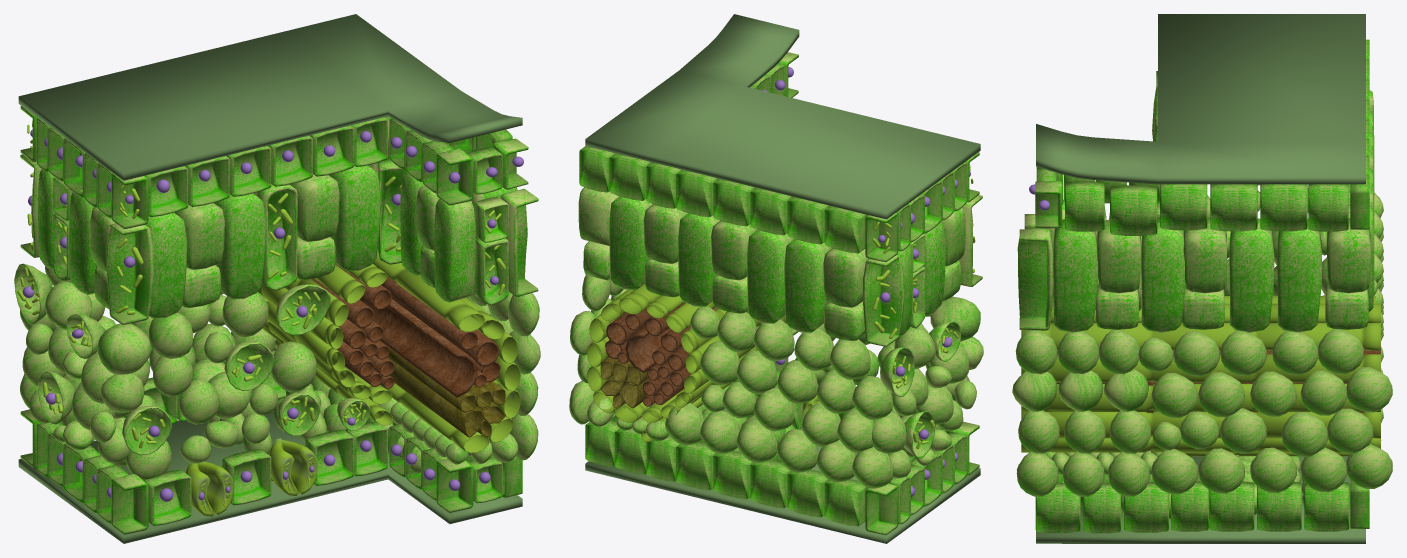
File: photosynthesis.glb
3 renders of one model, left to right at view 1: azimuth 30°, elevation 25°; view 2: azimuth 150°, elevation 25°; view 3: azimuth 270°, elevation 25°, orthographic. The views are drawn at different scales.
Visible parts, largest first — view 1: xibao_1_mesh_2_0 (×2); view 2: xibao_1_mesh_2_0 (×2); view 3: xibao_1_mesh_2_0 (×2).
Boxes of the visible parts, bbox=[...] form: xibao_1_mesh_2_0 (×2): bbox=[14, 14, 540, 543]; xibao_1_mesh_2_0 (×2): bbox=[569, 14, 983, 543]; xibao_1_mesh_2_0 (×2): bbox=[1012, 14, 1392, 543].
Bounding box in the file's own units: 138 × 139 × 124.
1 material, 1 textured.
